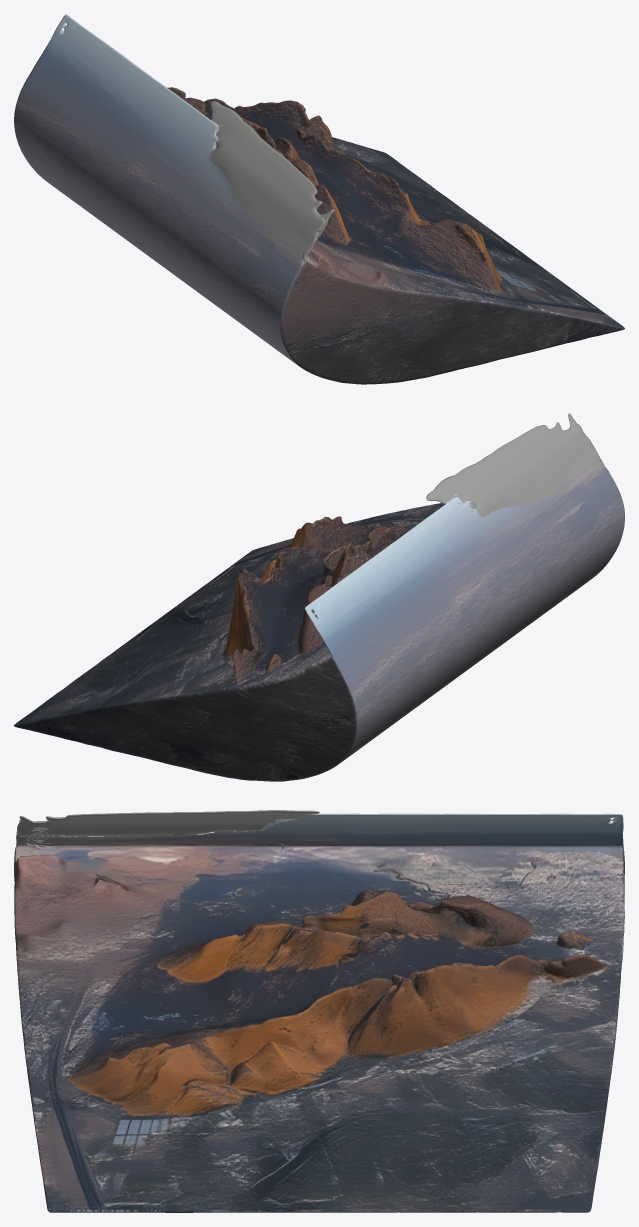
The model's file is uhud-mountain.glb.
3 renders of one model, top to bottom at view 1: azimuth 30°, elevation 25°; view 2: azimuth 150°, elevation 25°; view 3: azimuth 270°, elevation 25°, orthographic. The views are drawn at different scales.
Visible parts, largest first — view 1: tripo_node_1765a009; view 2: tripo_node_1765a009; view 3: tripo_node_1765a009.
Part boxes in pixels (<box>): tripo_node_1765a009: <box>14,14,624,384</box>; tripo_node_1765a009: <box>14,413,624,781</box>; tripo_node_1765a009: <box>14,810,624,1212</box>.
Bounding box in the file's own units: 74.98 × 42.97 × 97.95.
1 material, 1 textured.
